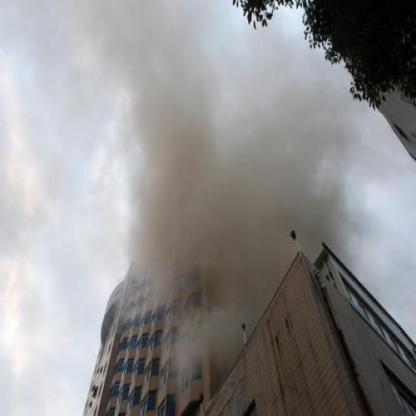smoke: (112, 0, 230, 281), (233, 29, 350, 280), (174, 289, 267, 379)
